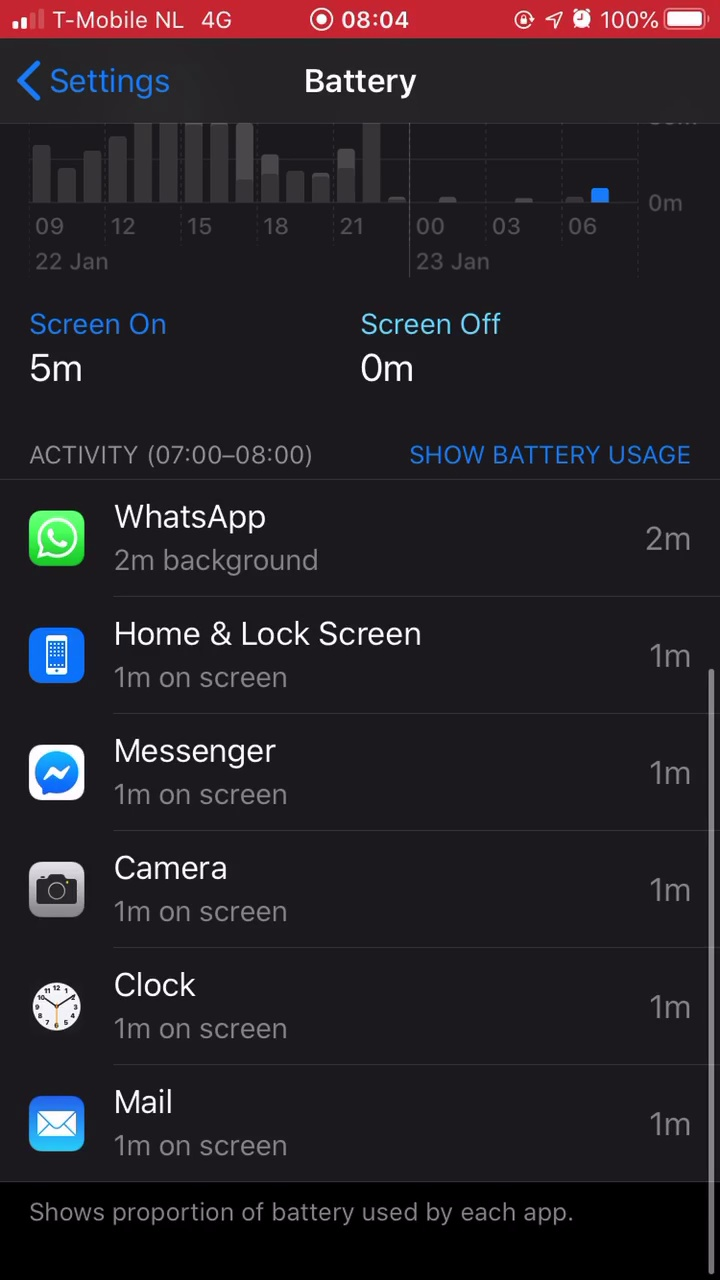activity: (21, 421, 336, 486)
app: (18, 497, 701, 585), (16, 609, 699, 697), (14, 723, 697, 811), (15, 843, 698, 931), (21, 964, 704, 1052), (22, 1073, 705, 1161)
